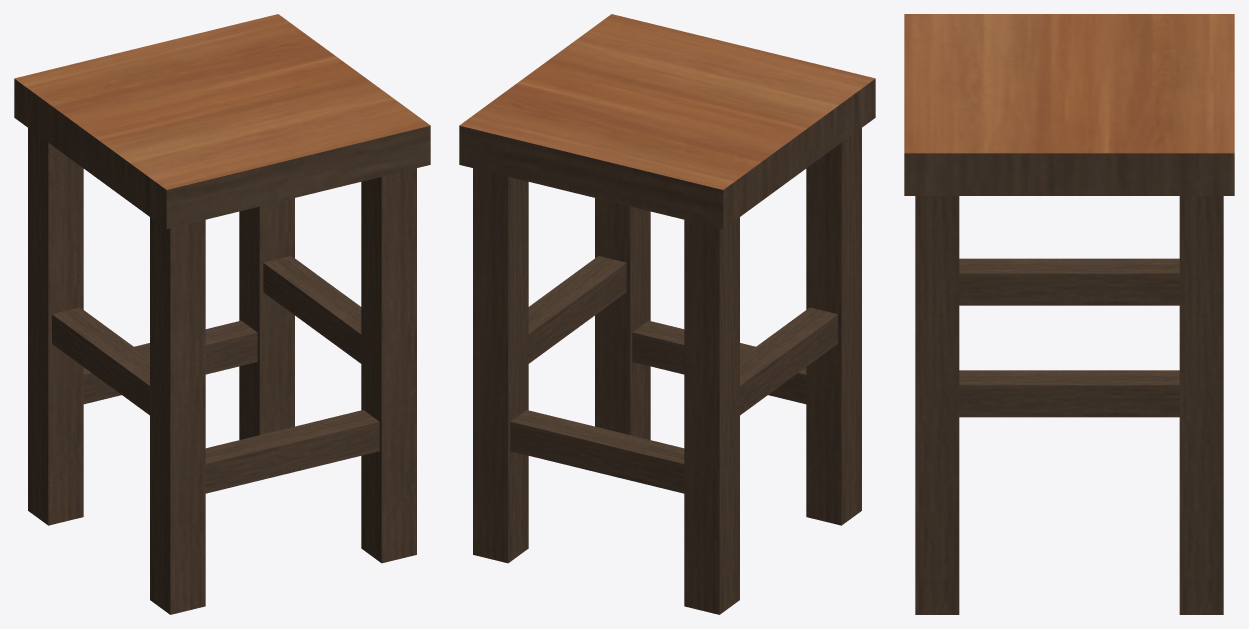
Rendered from Stool_1A.fbx.
The picture shows the model from 3 angles, left to right: view 1: azimuth 30°, elevation 25°; view 2: azimuth 150°, elevation 25°; view 3: azimuth 270°, elevation 25°; orthographic projection. The views are drawn at different scales.
Parts seen in each view (by area): view 1: polySurface1509; view 2: polySurface1509; view 3: polySurface1509.
Part boxes in pixels (left/top/right/bottom): polySurface1509: left=14, top=14, right=430, bottom=614; polySurface1509: left=459, top=14, right=875, bottom=614; polySurface1509: left=904, top=14, right=1234, bottom=614.
Size of the model in its own units: 0.6 by 0.935 by 0.6.
